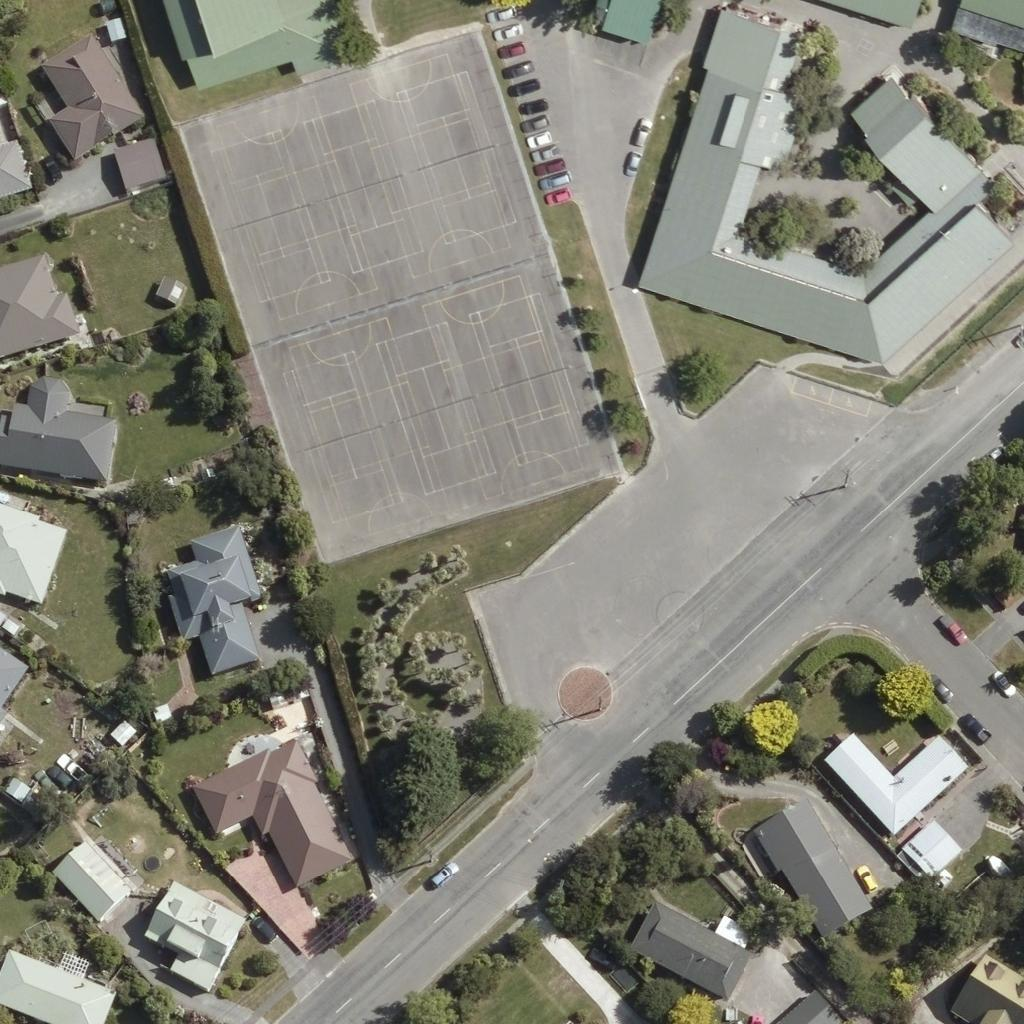car: (491, 14, 525, 48), (496, 32, 530, 66), (502, 51, 536, 85), (508, 70, 542, 104), (517, 88, 551, 122), (519, 105, 553, 139), (623, 118, 657, 152), (523, 122, 557, 156), (527, 136, 561, 170), (615, 145, 649, 179), (34, 150, 68, 184), (533, 150, 567, 184), (539, 163, 573, 197), (540, 178, 574, 212), (938, 612, 972, 646), (985, 663, 1019, 697), (922, 670, 956, 704), (955, 709, 989, 743), (53, 748, 87, 782), (43, 758, 77, 792), (28, 762, 62, 796), (425, 856, 459, 890), (849, 860, 883, 894), (246, 910, 280, 944), (482, 0, 516, 31)
